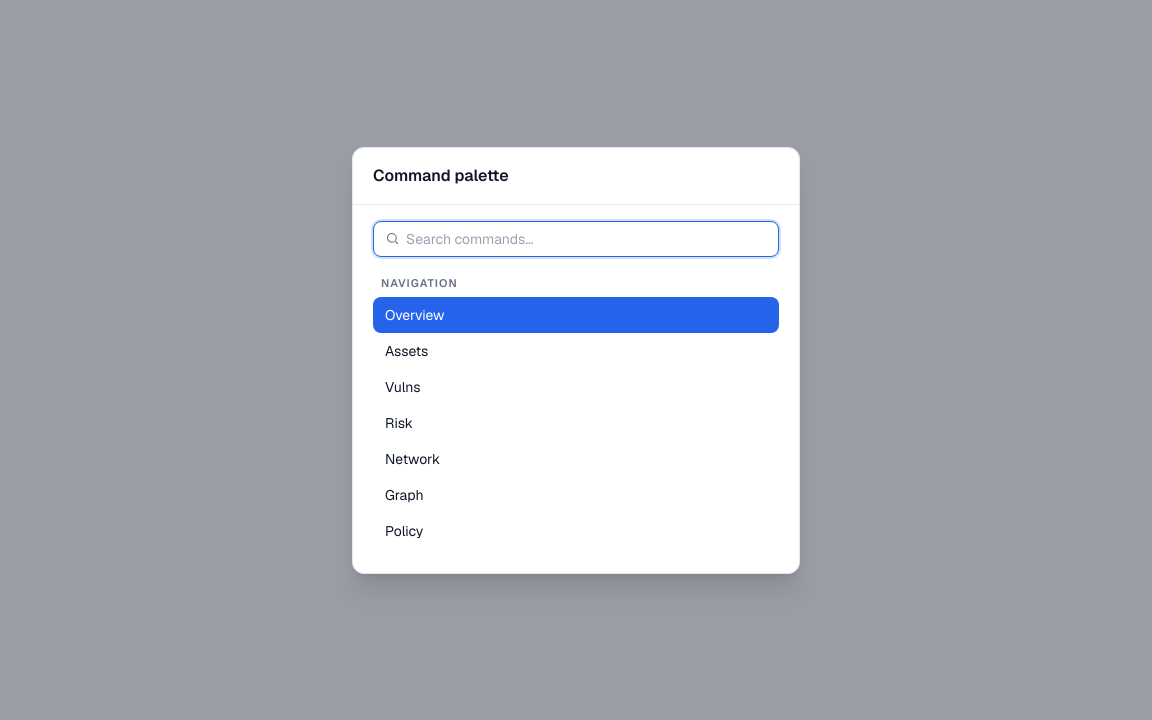
Test: typing "vuln" shows only matching command(s)
Step 1. Type "vuln" into the field with placeholder "Search commands..." → (576, 238), box [373, 220, 779, 256]
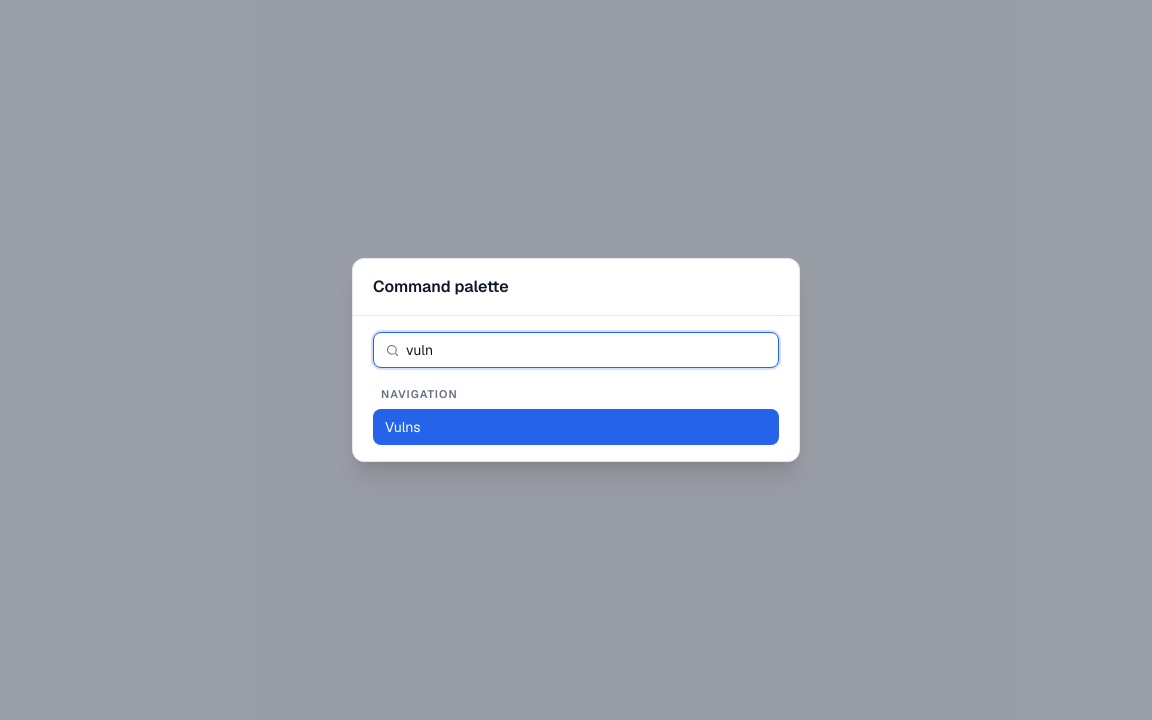
Expected: the option "Vulns" is shown, [373, 409, 779, 445]
Now the option "Overview" is gone
